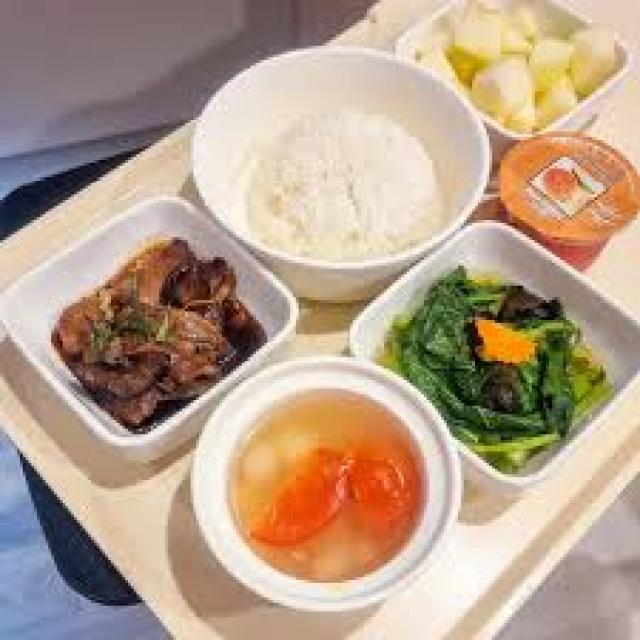Fruits: (447, 11, 617, 131)
Green veg: (384, 269, 609, 469)
Pork: (51, 237, 265, 426)
Rice: (230, 109, 449, 263)
